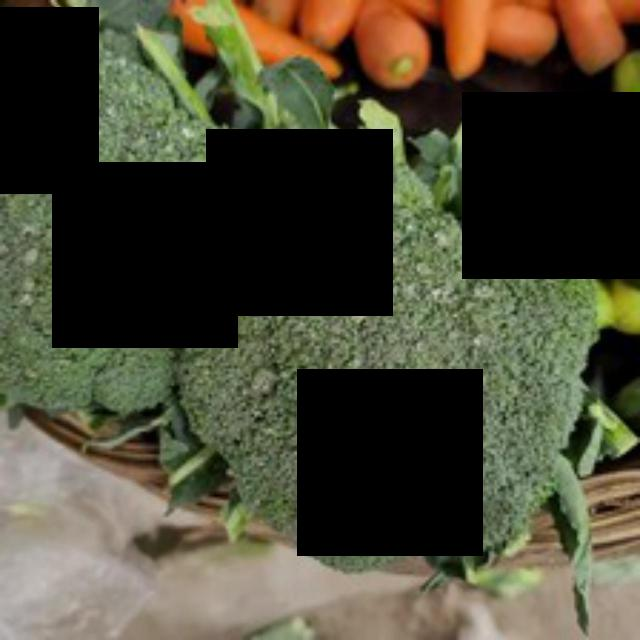broccoli: (168, 162, 619, 559)
